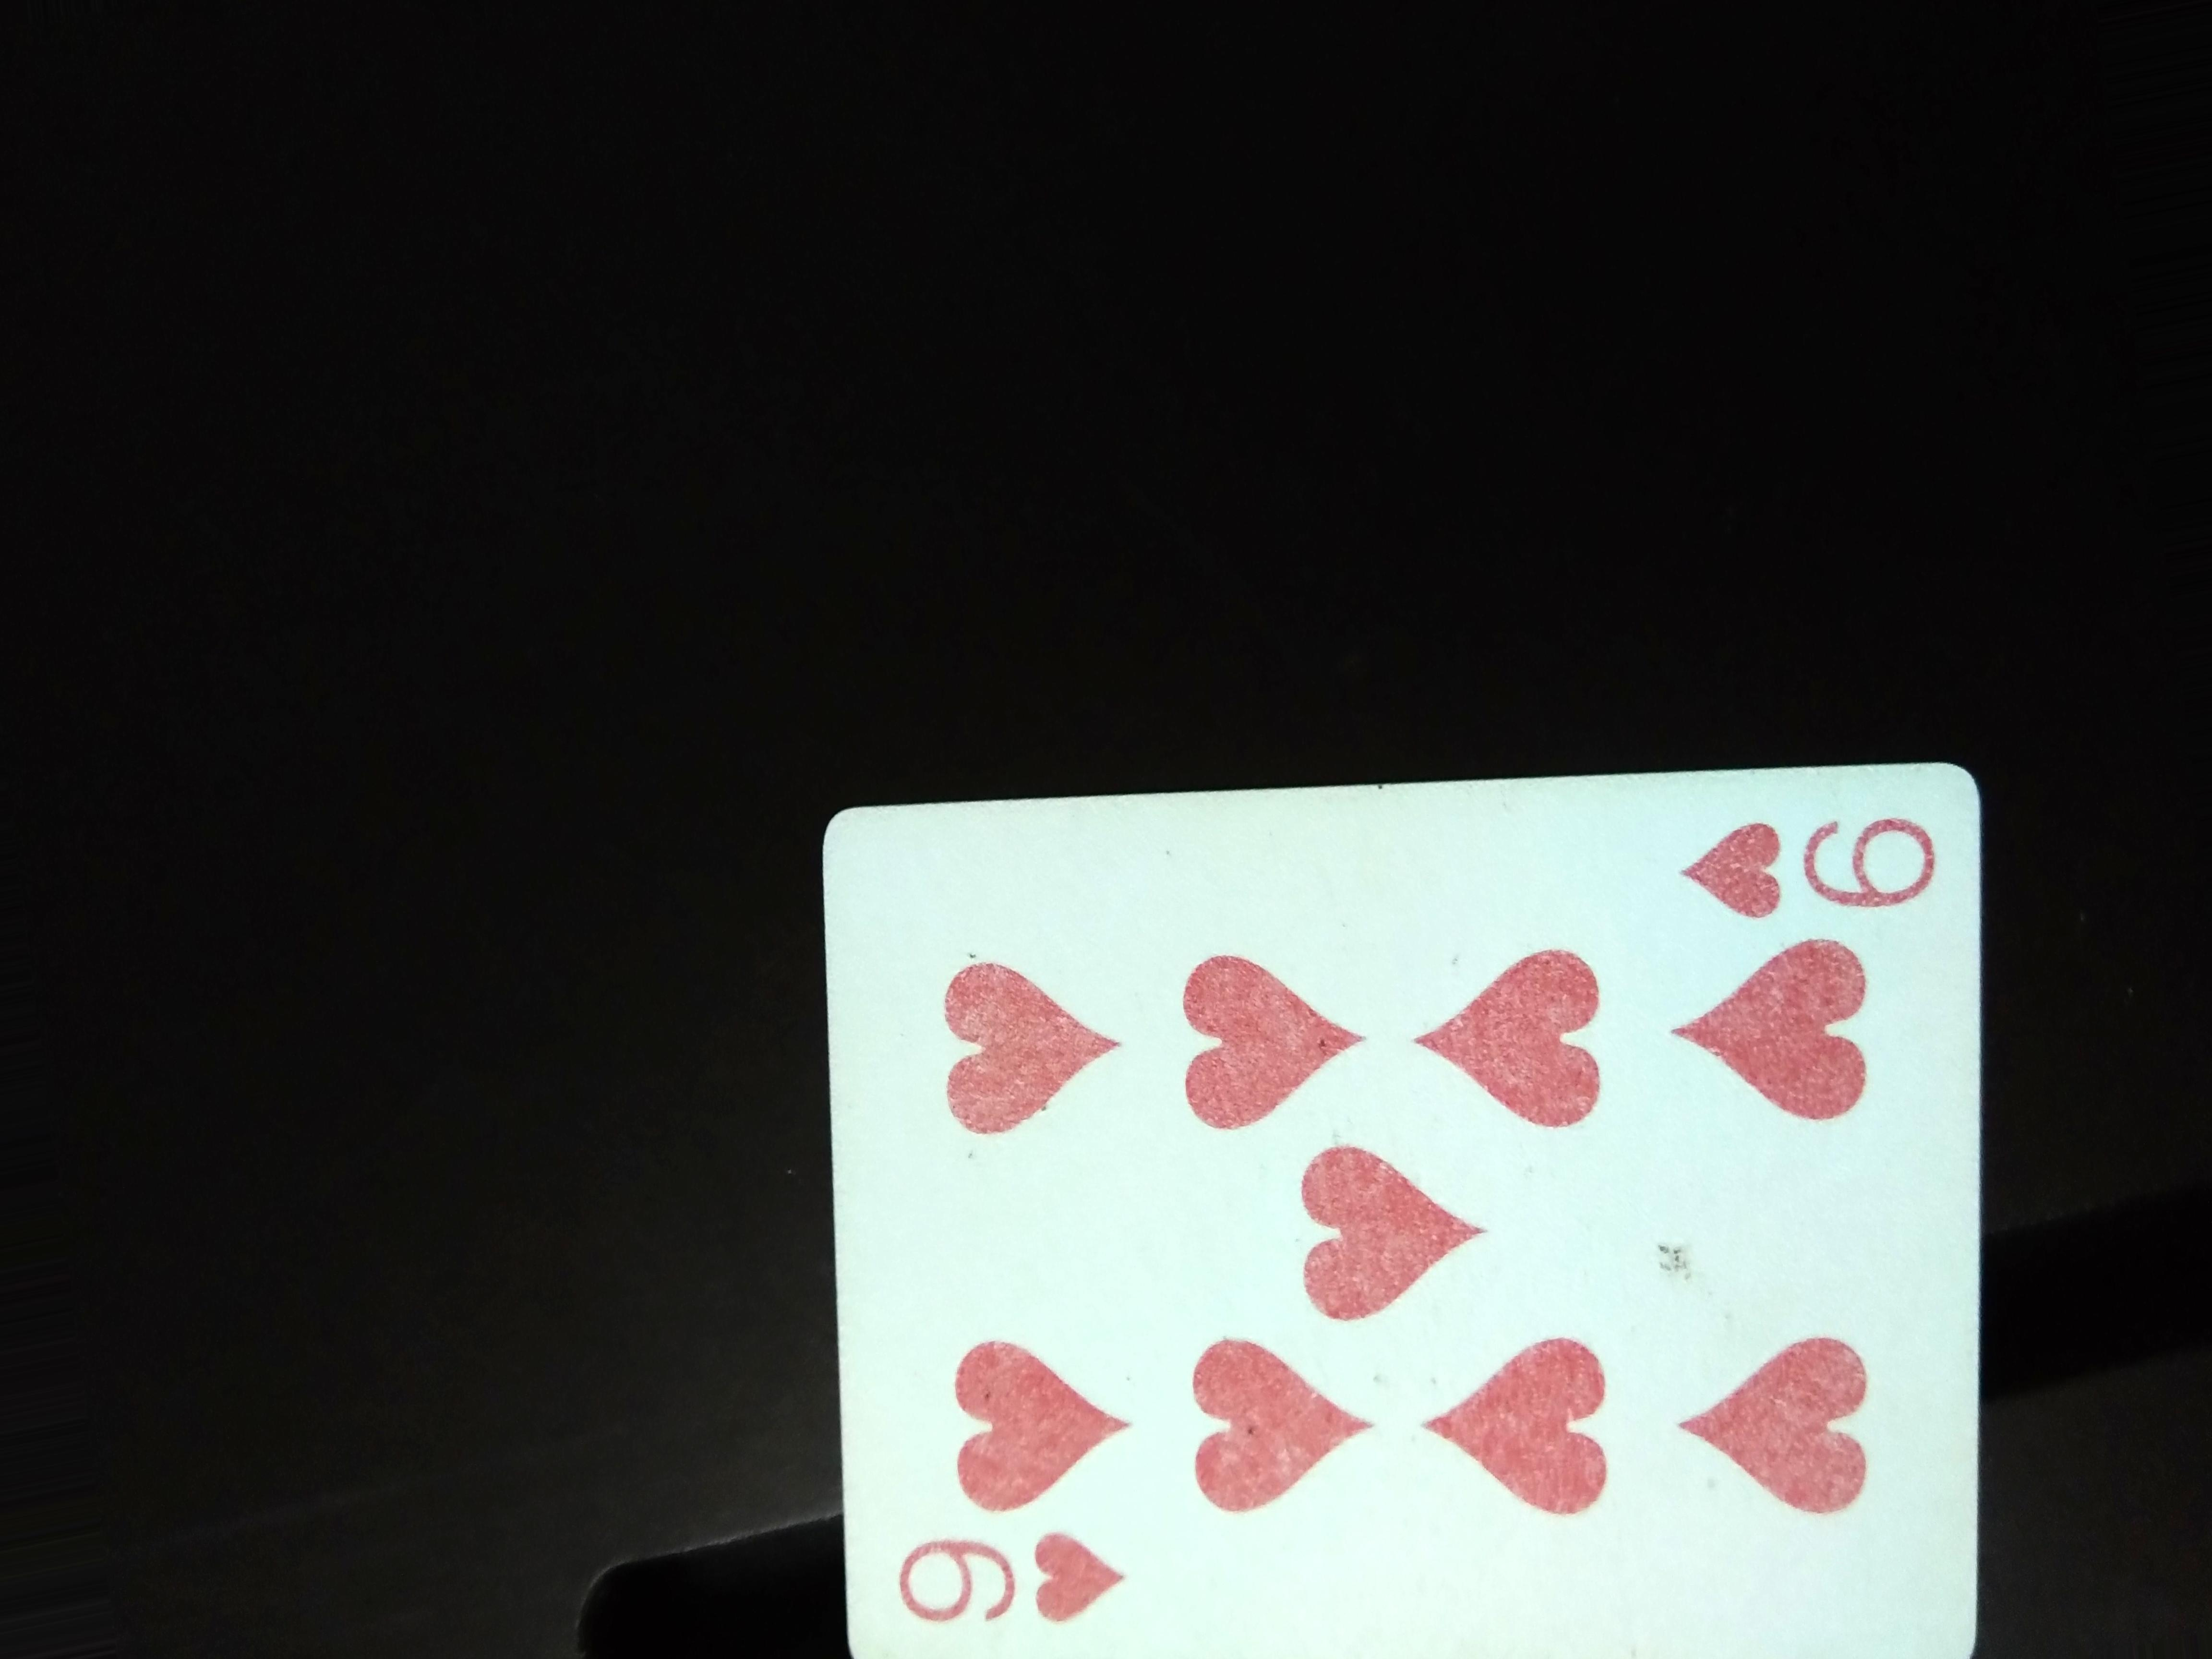9H: (1674, 800, 1947, 943)
